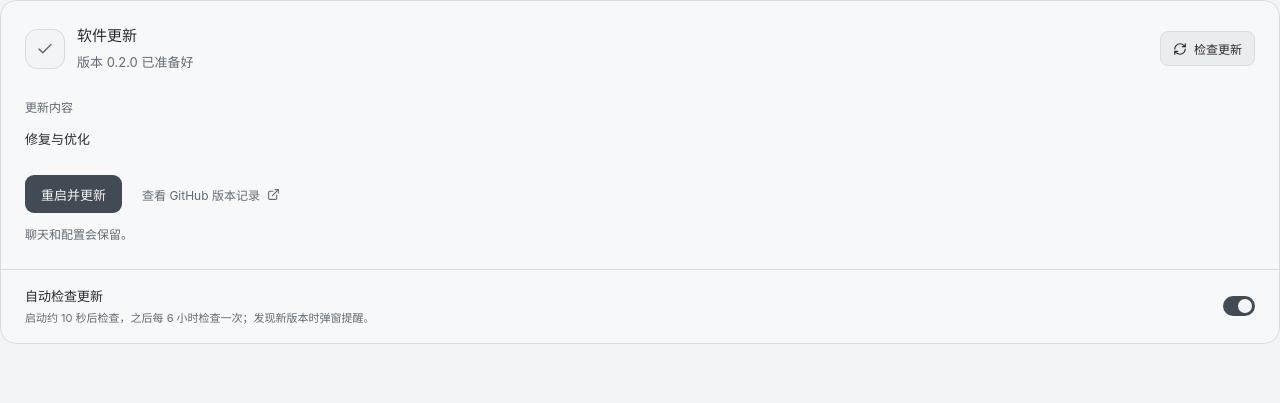
Test: preserves ready state and shows backend task rejection without losing the package
Click the button "重启并更新". click: (74, 194)
box: [25,175,122,213]
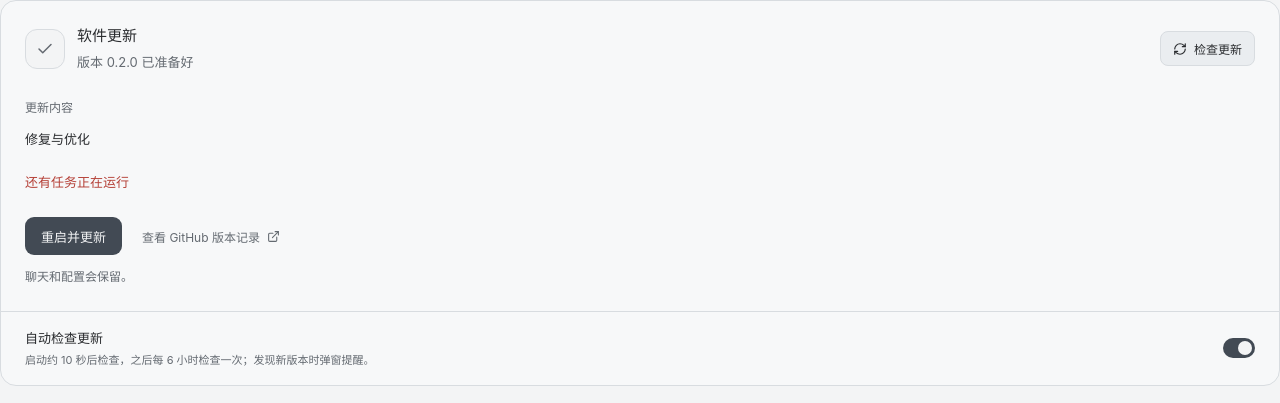
Expected: the button "重启并更新" is enabled, [25,217,122,255]
Expected: the text "还有任务正在运行" is shown, [25,174,129,190]
